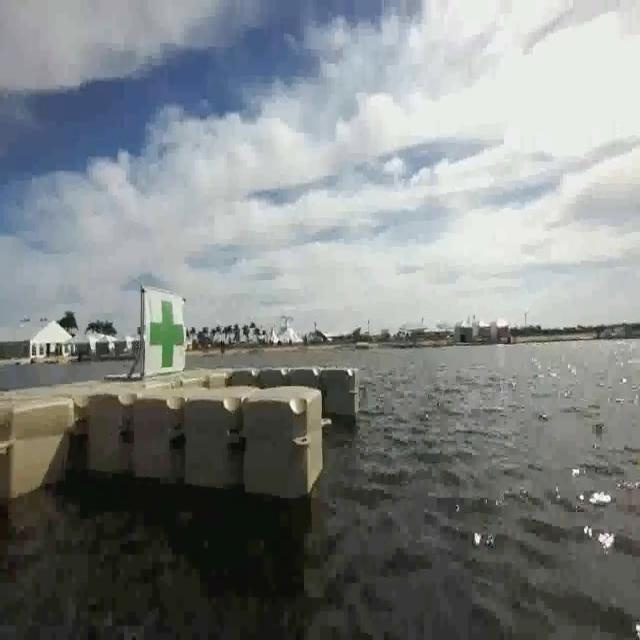blue-cross: (146, 296, 182, 372)
